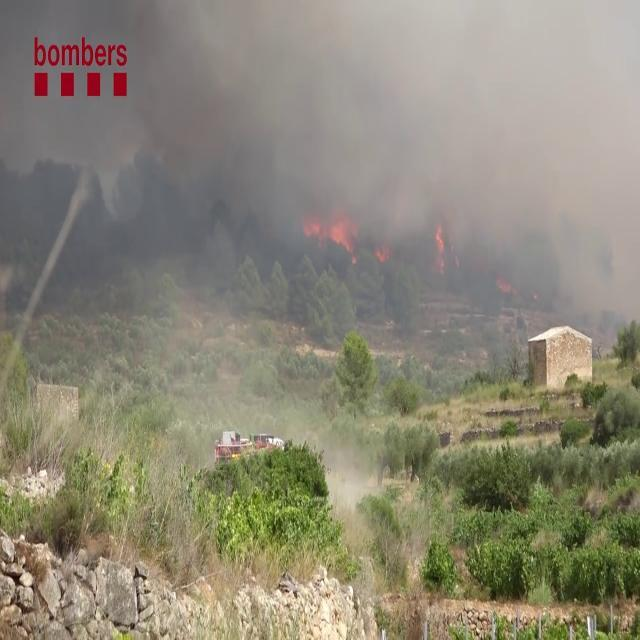Smoke: (116, 0, 638, 362)
